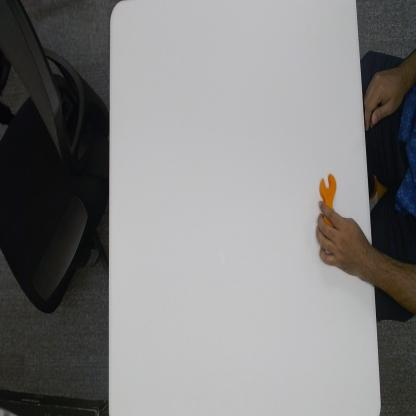Hand: (314, 202, 371, 278)
Screwdriver: (317, 169, 338, 208)
